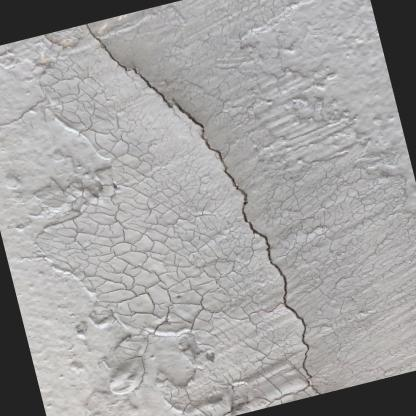crack: (84, 24, 321, 395)
